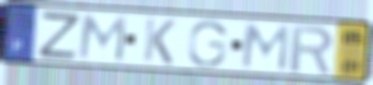G: (186, 19, 229, 69)
K: (141, 16, 178, 67)
M: (76, 13, 129, 64), (239, 22, 292, 73)
R: (289, 23, 336, 75)
Z: (35, 11, 84, 62)
